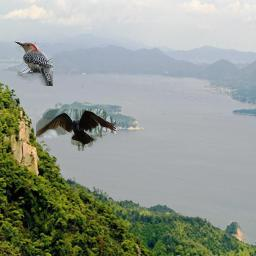Crow: (36, 109, 116, 151)
Woodpecker: (14, 41, 53, 86)
